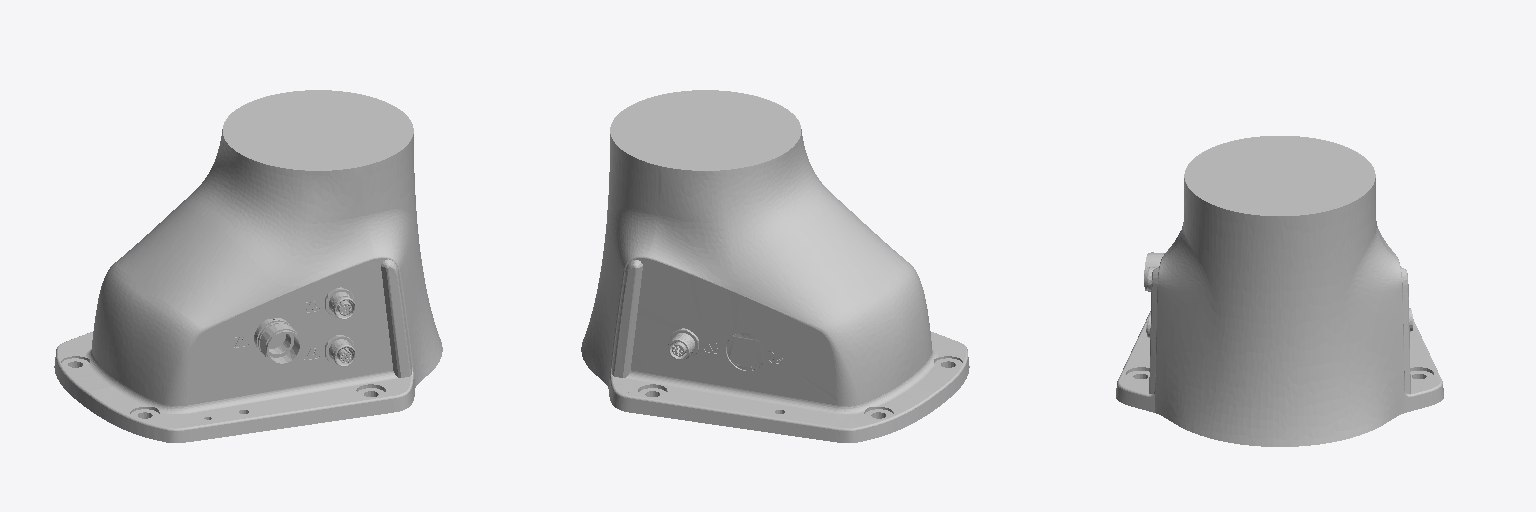
The picture shows the model from 3 angles: view 1: azimuth 30°, elevation 25°; view 2: azimuth 150°, elevation 25°; view 3: azimuth 270°, elevation 25°; orthographic projection.
Visible parts, largest first — view 1: node3_Part__Feature019.003, node4_Part__Feature018.003, node7_Shell002.002, node9_Shell003.002, node1_Part__Feature022.003; view 2: node3_Part__Feature019.003, node0_Part__Feature017.003, node11_Shell010.003; view 3: node3_Part__Feature019.003, node4_Part__Feature018.003, node0_Part__Feature017.003.
Part boxes in pixels (x1,y1,x2,y2): node3_Part__Feature019.003: (54, 90, 442, 442); node4_Part__Feature018.003: (381, 259, 411, 377); node7_Shell002.002: (254, 318, 301, 365); node9_Shell003.002: (325, 287, 355, 319); node1_Part__Feature022.003: (325, 335, 355, 366); node3_Part__Feature019.003: (581, 90, 969, 442); node0_Part__Feature017.003: (612, 260, 642, 377); node11_Shell010.003: (668, 328, 698, 360); node3_Part__Feature019.003: (1116, 136, 1443, 446); node4_Part__Feature018.003: (1149, 267, 1158, 393); node0_Part__Feature017.003: (1401, 267, 1410, 393).
Bounding box in the file's own units: 0.2256 × 0.14 × 0.1892.